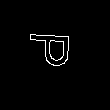P_E: (30, 38, 82, 77)
